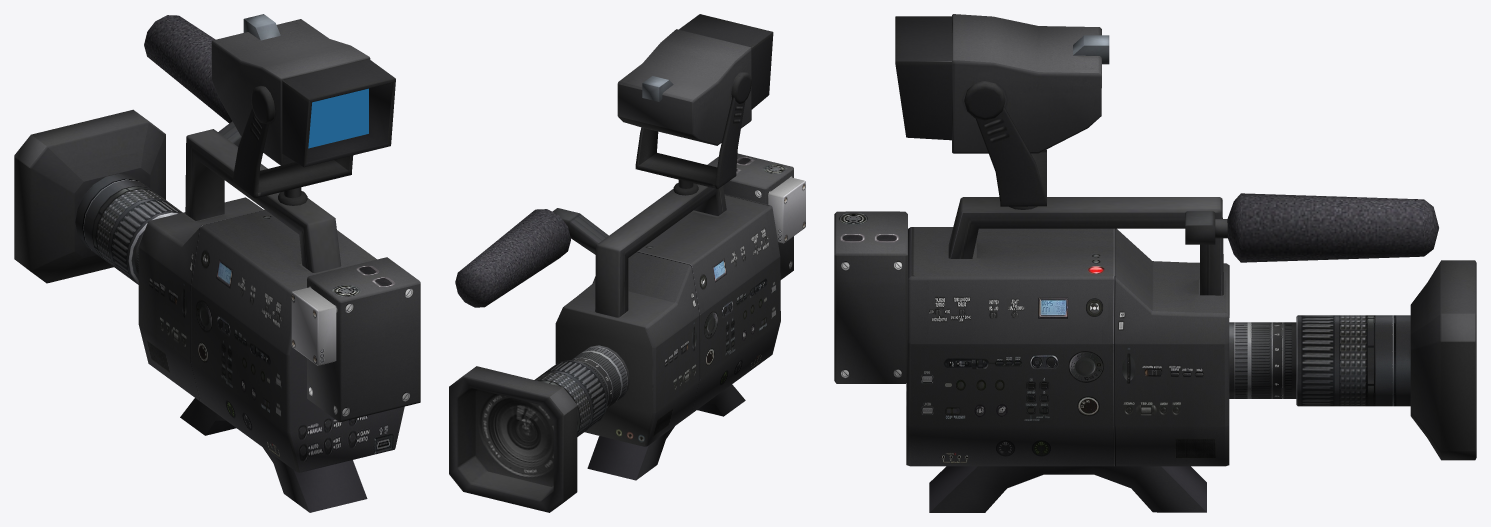
File: camera.glb
3 renders of one model, left to right at view 1: azimuth 30°, elevation 25°; view 2: azimuth 150°, elevation 25°; view 3: azimuth 270°, elevation 25°, orthographic. The views are drawn at different scales.
Visible parts, largest first — view 1: Camera.001; view 2: Camera.001; view 3: Camera.001.
Boxes of the visible parts, x1,y1,x2,y2 form: Camera.001: (14, 14, 420, 512); Camera.001: (449, 14, 805, 512); Camera.001: (834, 14, 1476, 512).
Bounding box in the file's own units: 0.3005 × 0.7854 × 0.9941.
2 materials, 2 textured.
